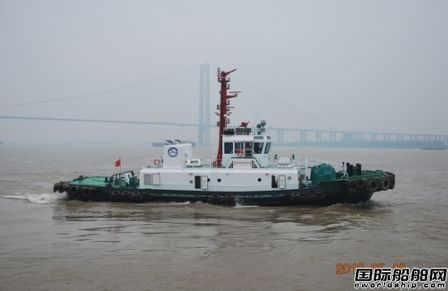otherboat: (53, 66, 397, 211)
